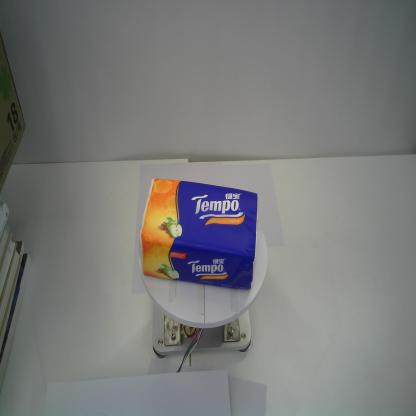Tissue: (138, 176, 258, 292)
